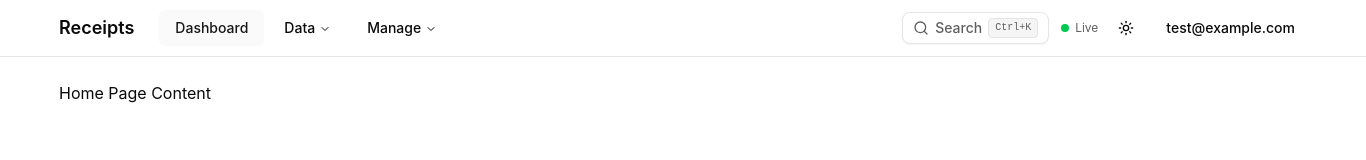
Test: Layout › navigates to API Keys when clicked in user dropdown
The width and height of the screenshot is (1366, 160).
Click the text "test@example.com".
click(1231, 28)  # box [1166, 18, 1295, 38]
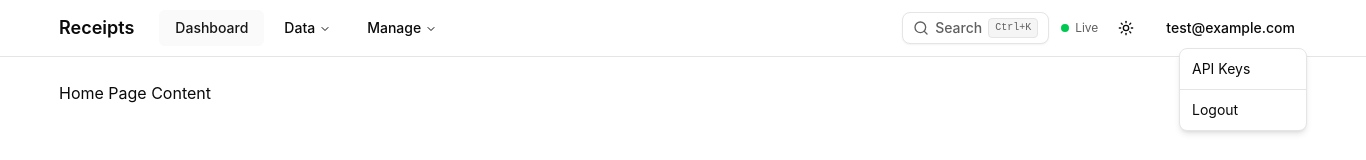
Now the menu item "API Keys" is shown, box [1192, 60, 1250, 77]
